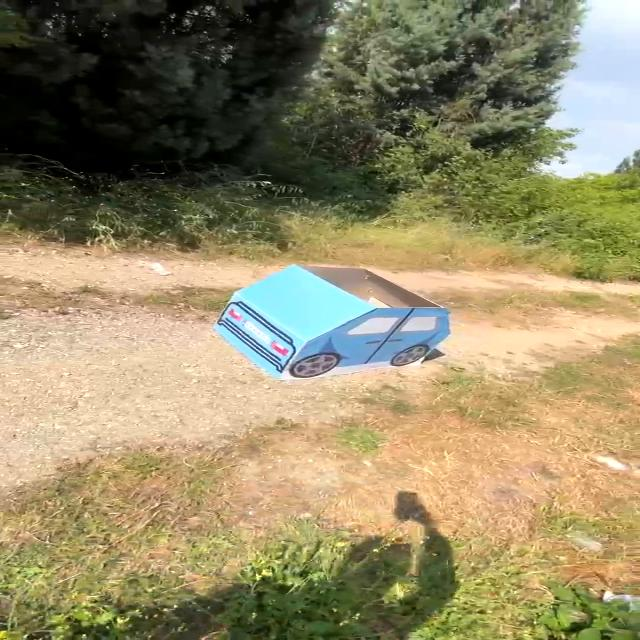blue_car: (198, 253, 473, 379)
